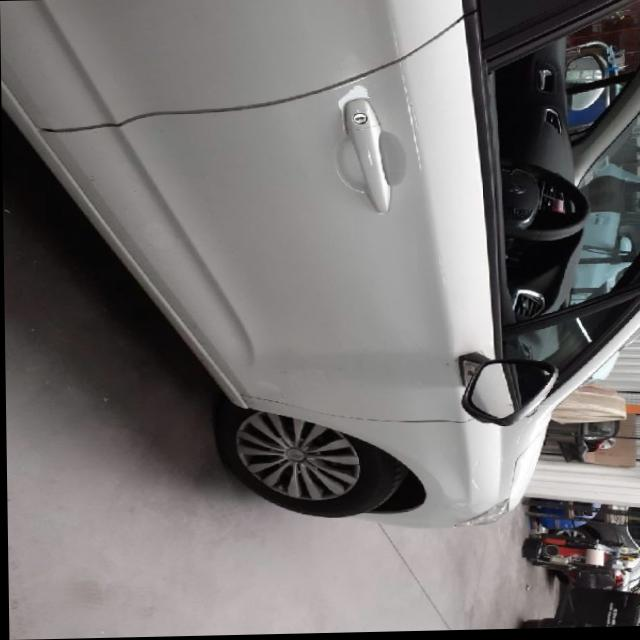porte-avant: (34, 5, 640, 434)
